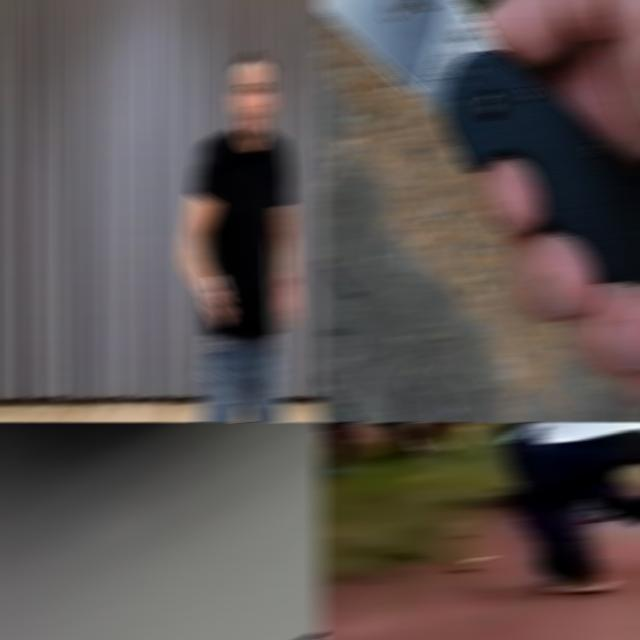Knife: (500, 422, 592, 444)
Knife_Handle: (316, 0, 640, 413), (499, 422, 621, 447), (201, 249, 232, 329)
